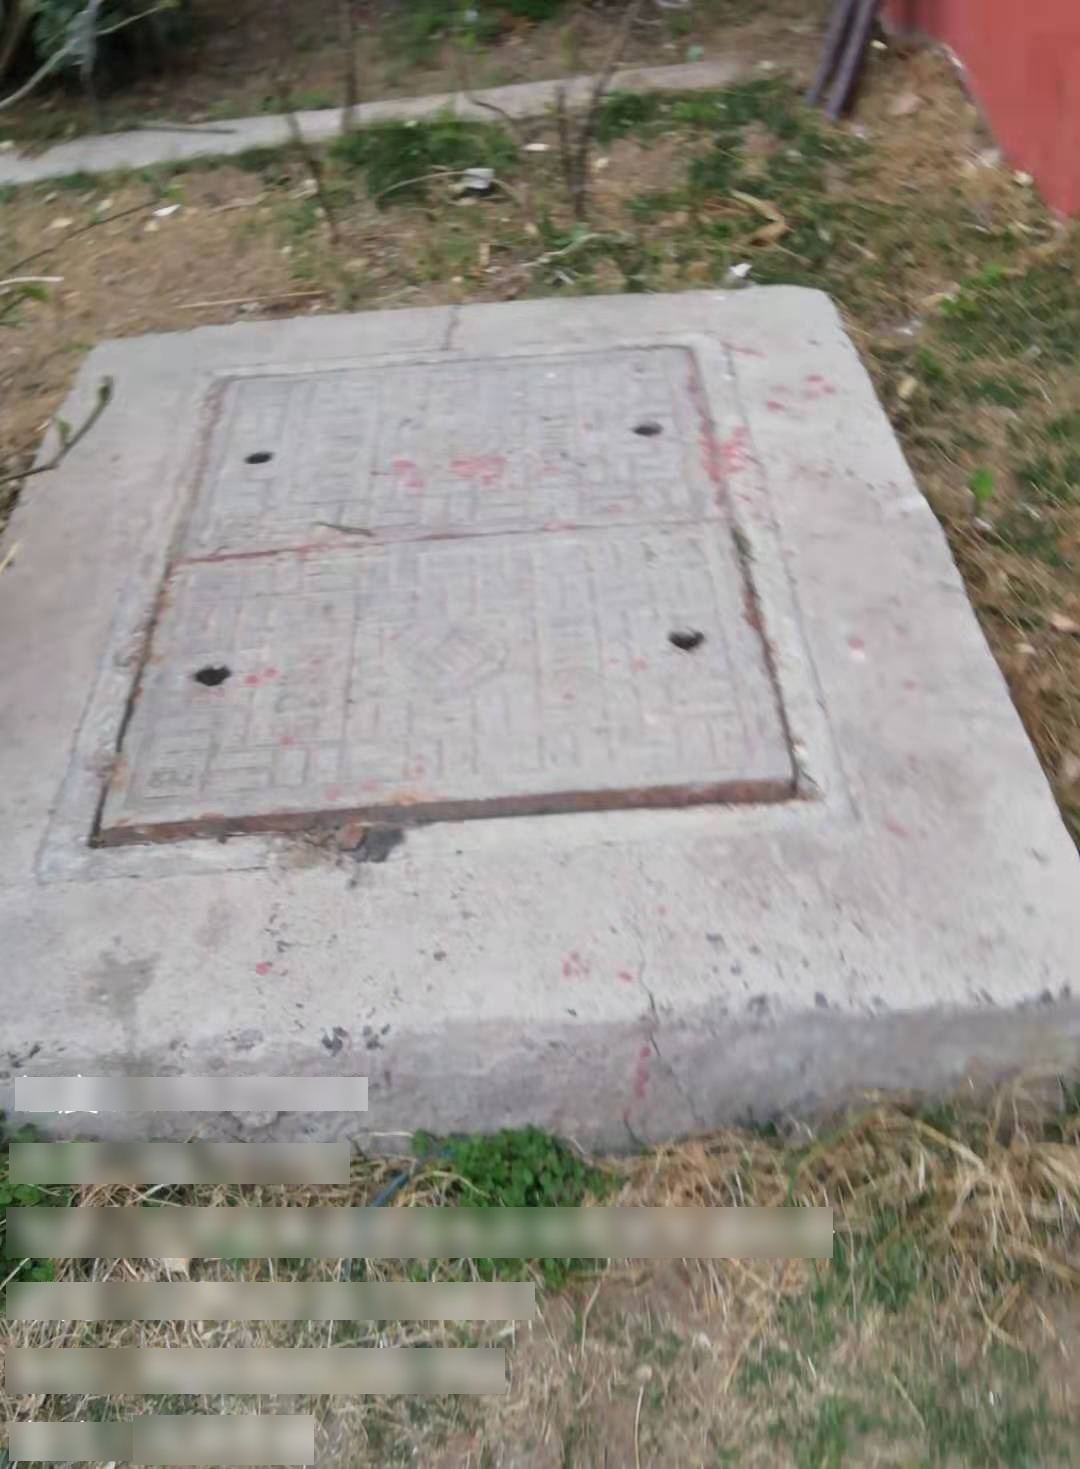good: (40, 335, 870, 869)
